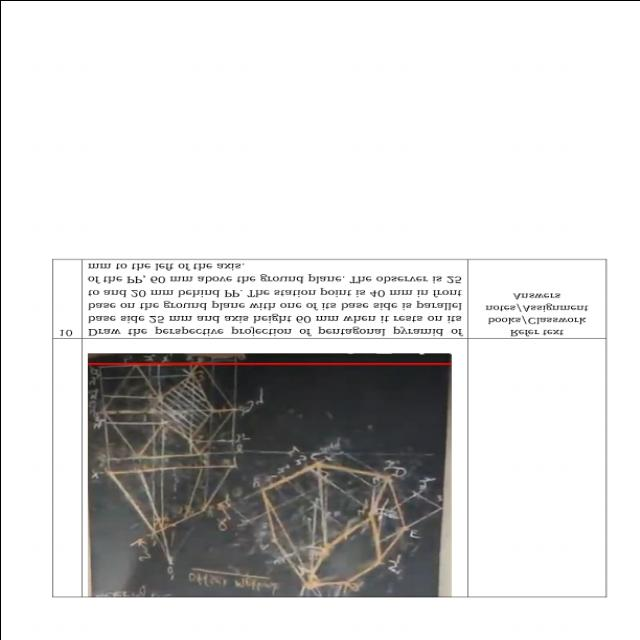Drawings: (89, 352, 452, 594)
